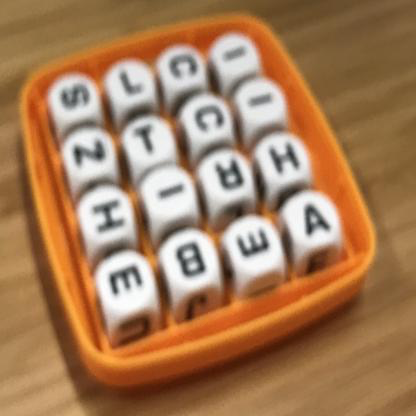a: (285, 193, 339, 244)
b: (162, 231, 219, 282)
c: (182, 96, 233, 140), (158, 46, 209, 82)
e: (94, 258, 156, 313), (227, 216, 285, 274)
h: (80, 186, 136, 242), (255, 135, 315, 182)
i: (204, 35, 265, 76), (142, 167, 195, 213), (231, 80, 289, 118)
l: (105, 64, 157, 101)
r: (201, 152, 256, 194)
s: (46, 68, 100, 123)
t: (124, 120, 178, 161)
z: (63, 132, 114, 180)
